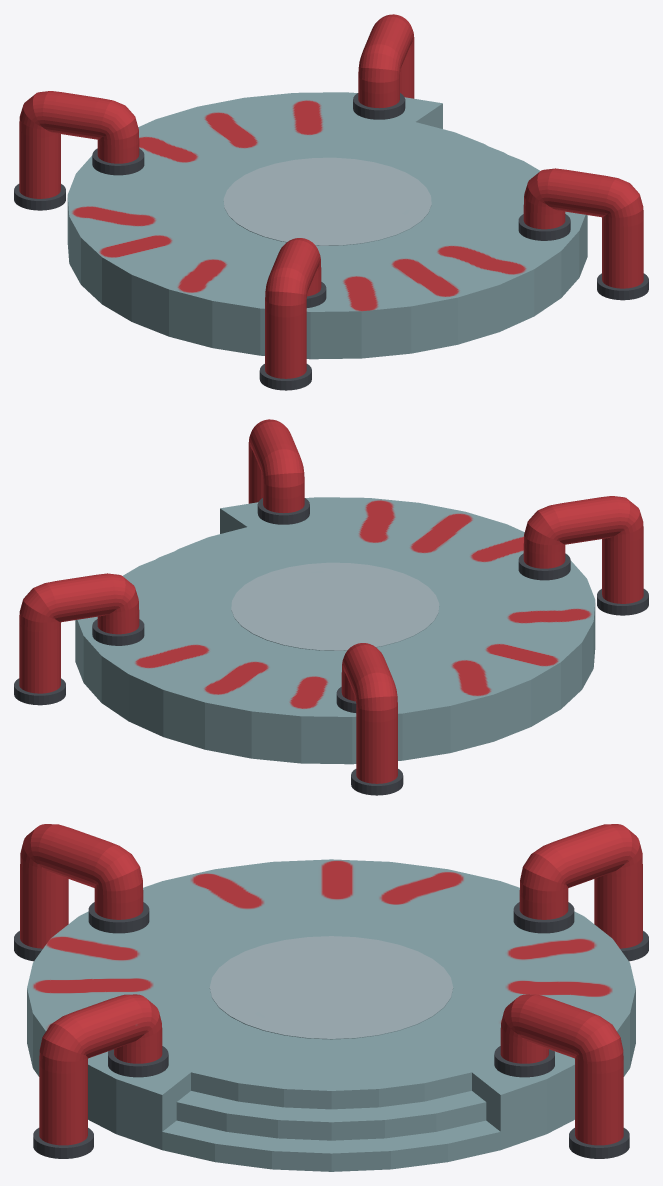
Rendered from Weapon-gun.glb.
The picture shows the model from 3 angles, top to bottom: view 1: azimuth 30°, elevation 25°; view 2: azimuth 150°, elevation 25°; view 3: azimuth 270°, elevation 25°; orthographic projection. The views are drawn at different scales.
Visible parts, largest first — view 1: Cylinder.004; view 2: Cylinder.004; view 3: Cylinder.004.
Boxes of the visible parts, x1=… form: Cylinder.004: x1=14, y1=14, x2=648, y2=390; Cylinder.004: x1=14, y1=419, x2=648, y2=795; Cylinder.004: x1=14, y1=824, x2=648, y2=1171.
Size of the model in its own units: 10 by 2.3 by 10.43.
1 material, 1 textured.
